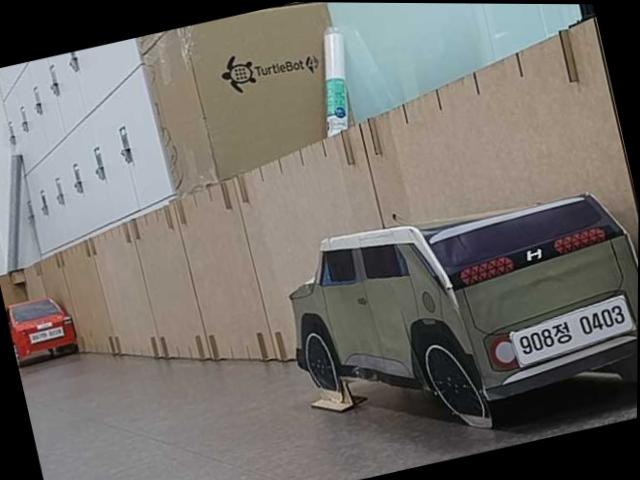car: (267, 163, 639, 469), (4, 287, 86, 368)
id: (501, 290, 638, 369), (26, 322, 69, 347)
